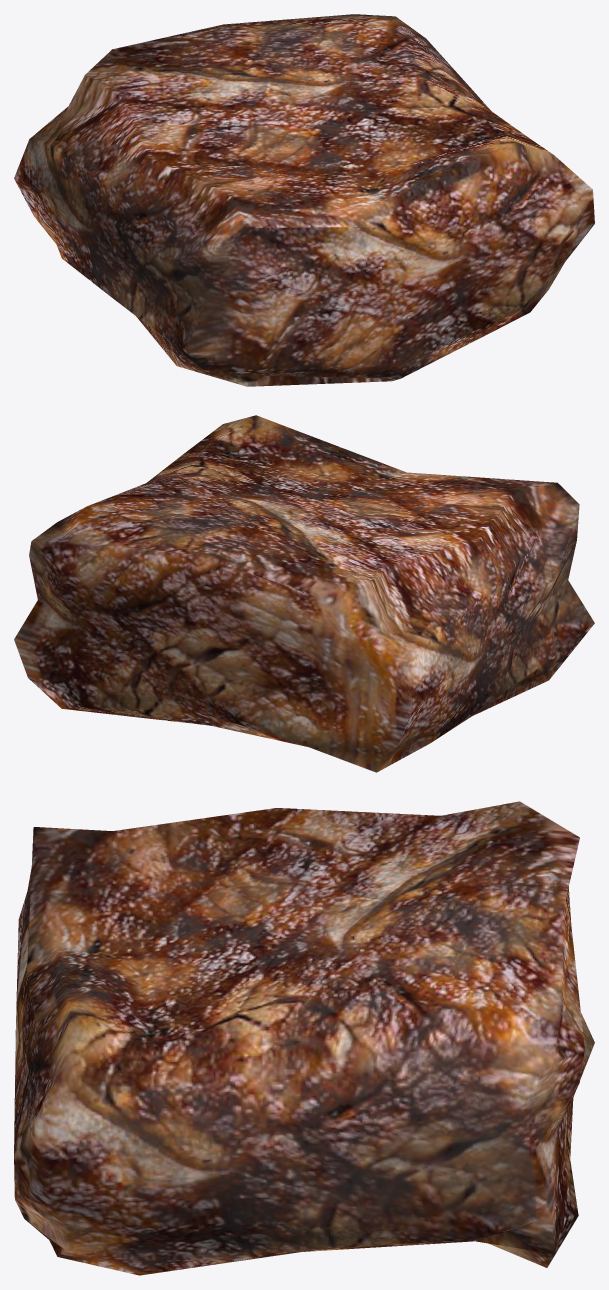
Rendered from mince_cooked.fbx.
3 renders of one model, top to bottom at view 1: azimuth 30°, elevation 25°; view 2: azimuth 150°, elevation 25°; view 3: azimuth 270°, elevation 25°, orthographic. The views are drawn at different scales.
Parts seen in each view (by area): view 1: Box001_Material #25_0.010; view 2: Box001_Material #25_0.010; view 3: Box001_Material #25_0.010.
Part boxes in pixels (bbox=[...]): Box001_Material #25_0.010: bbox=[14, 14, 594, 386]; Box001_Material #25_0.010: bbox=[14, 415, 594, 772]; Box001_Material #25_0.010: bbox=[14, 801, 594, 1275].
Size of the model in its own units: 69.54 by 37.4 by 61.9.
Materials: 1 (1 with a texture image).
